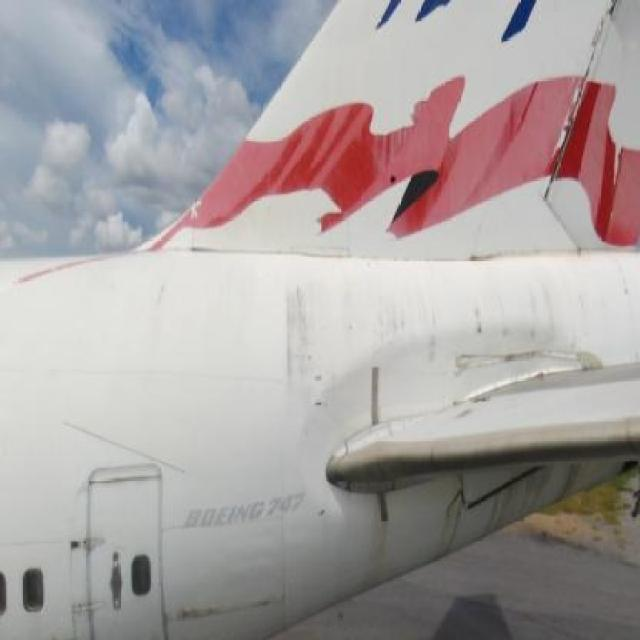Rust: (462, 264, 586, 348), (354, 257, 440, 366), (276, 263, 341, 406)
Scartch: (488, 462, 588, 530), (349, 492, 405, 586), (432, 478, 476, 558), (453, 346, 567, 374), (171, 595, 231, 640), (247, 581, 296, 613)
